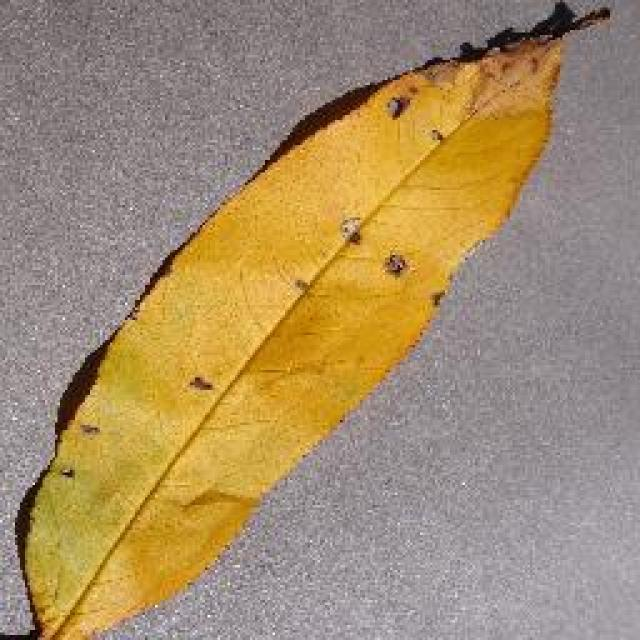Peach_Bacterial_Spot: (300, 80, 537, 273)
